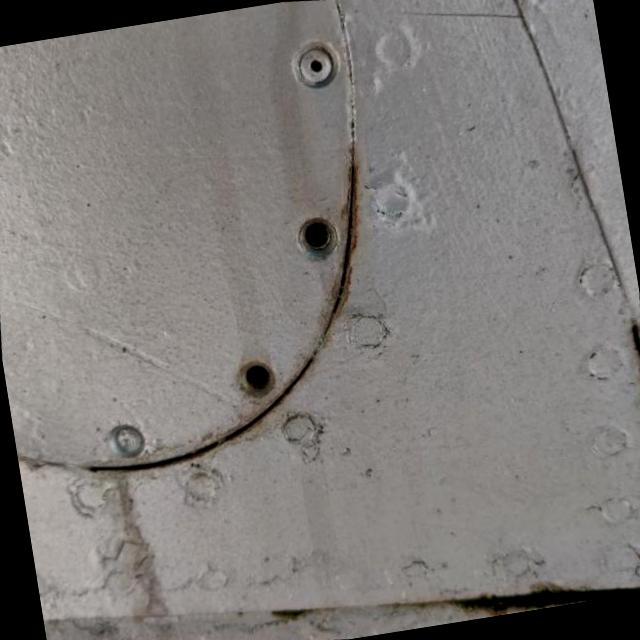Missing Fastener: (292, 214, 338, 260), (234, 358, 275, 400)
